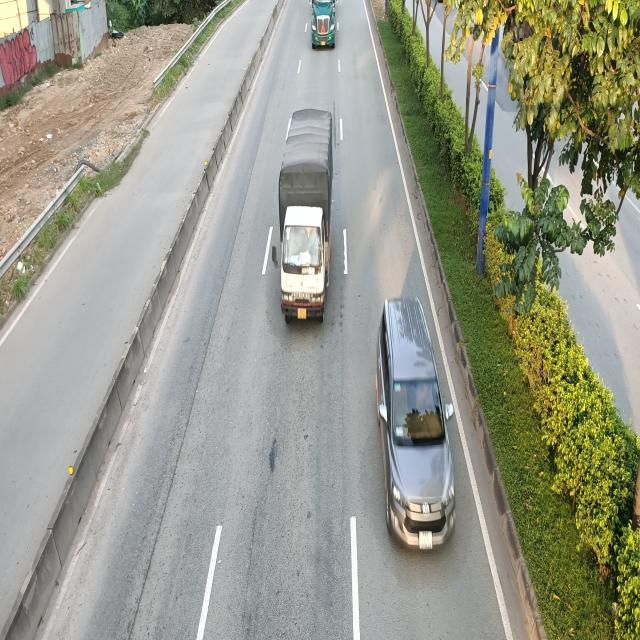car: (379, 299, 459, 552)
container: (309, 0, 337, 47)
truck: (270, 107, 333, 326)
